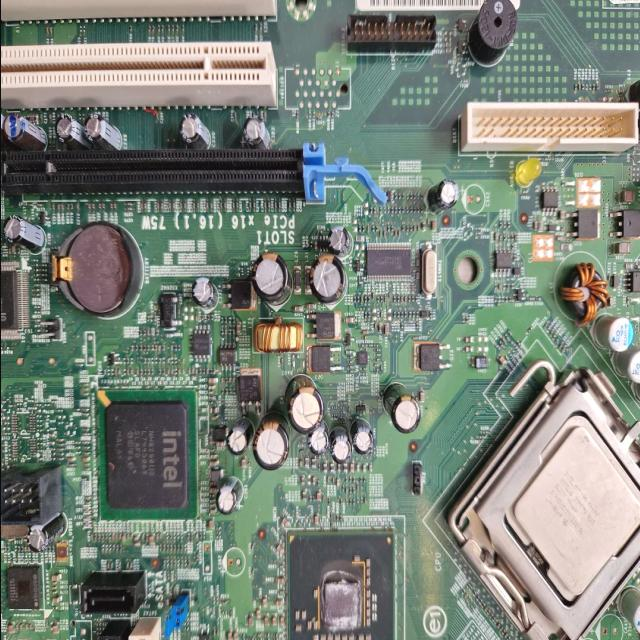A: (558, 264, 608, 326), (254, 318, 302, 354)
C: (284, 376, 322, 432), (251, 252, 291, 304), (252, 414, 289, 470), (308, 255, 346, 302), (382, 383, 418, 432), (2, 114, 46, 152), (25, 512, 63, 552), (3, 216, 43, 250), (84, 114, 120, 150), (178, 112, 210, 148), (427, 178, 457, 212), (225, 418, 252, 454), (55, 114, 83, 148), (215, 478, 242, 513), (242, 116, 270, 148), (190, 277, 217, 309), (350, 420, 372, 455), (326, 226, 351, 256), (329, 428, 349, 463), (308, 421, 328, 454), (0, 106, 3, 142)
